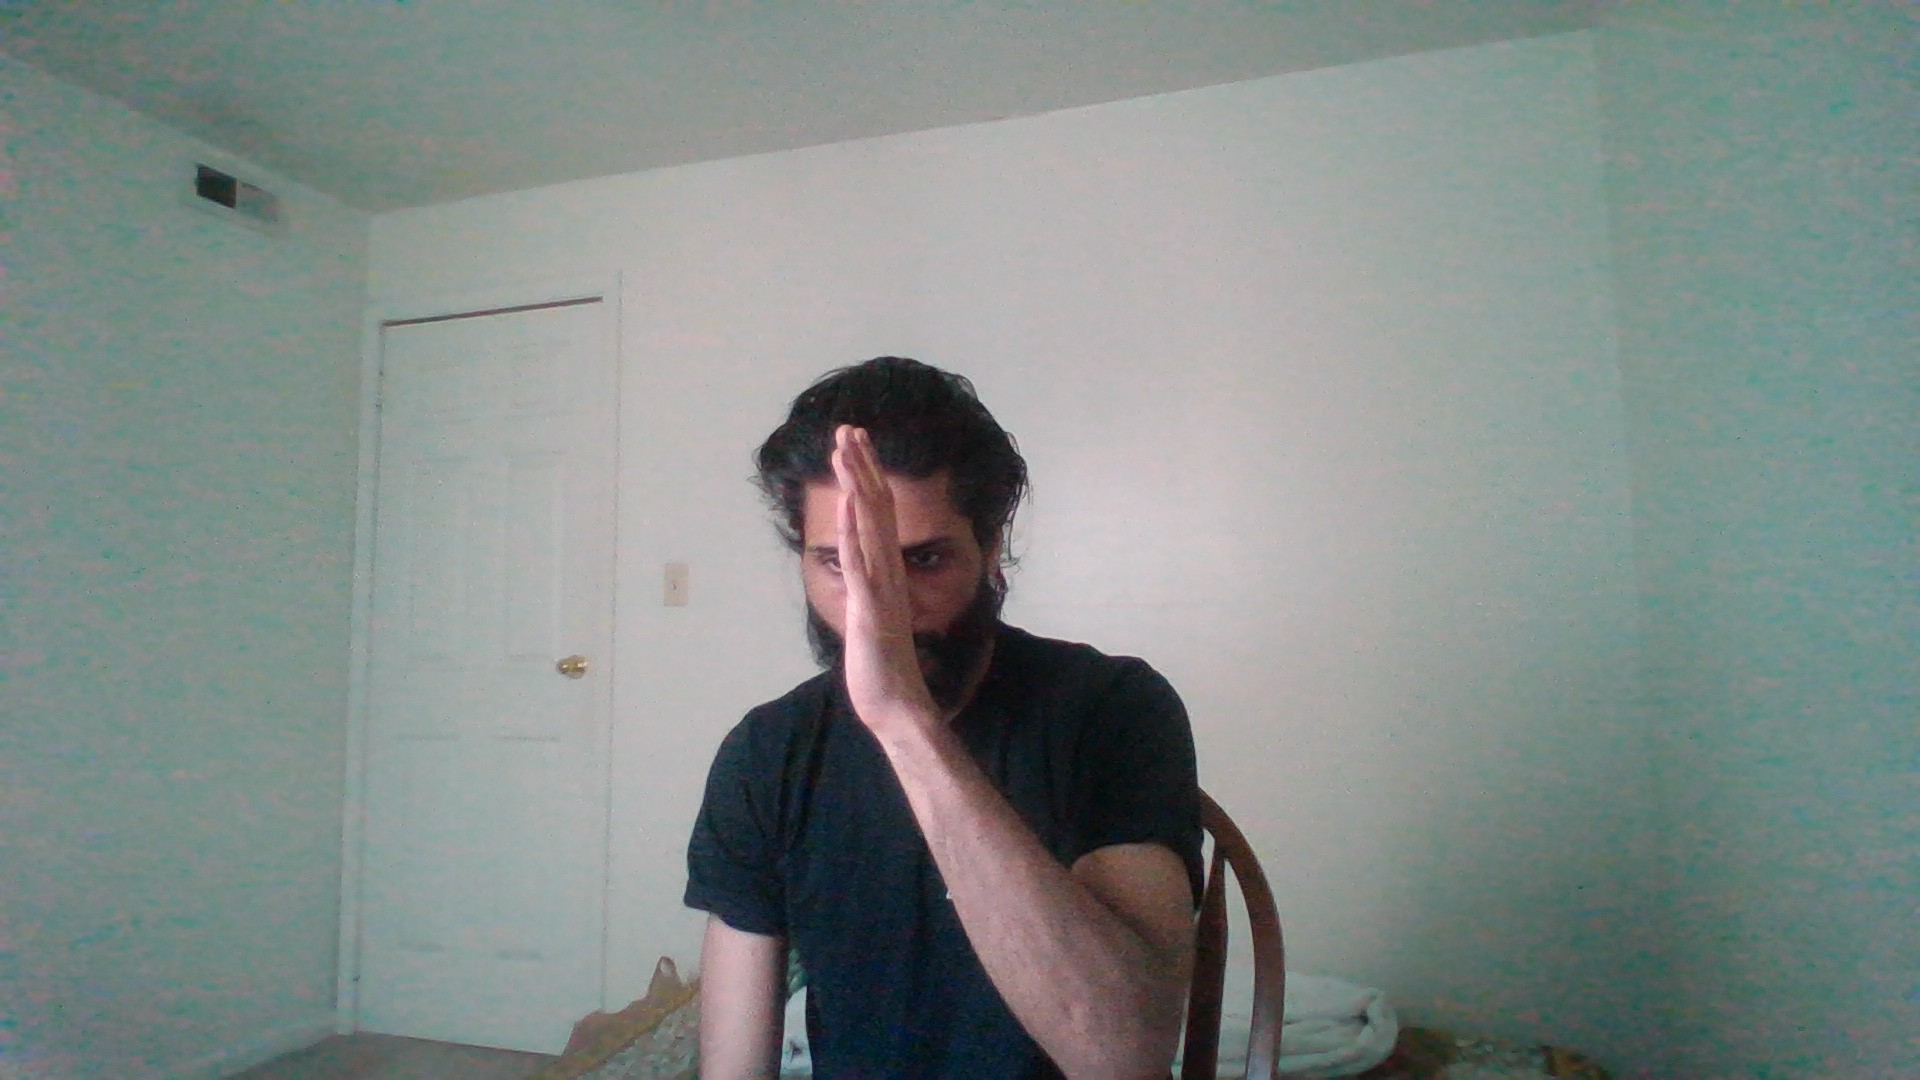Dad: (696, 401, 1058, 777)
